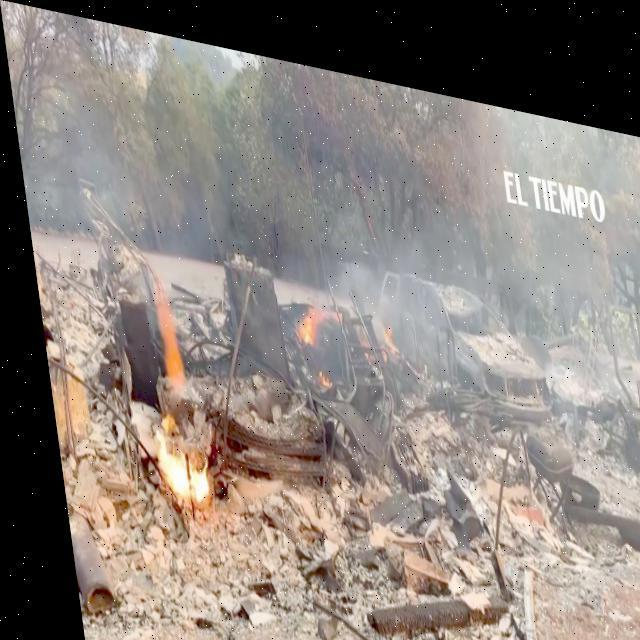Fire: (140, 262, 180, 386), (143, 417, 201, 496), (287, 290, 320, 332), (375, 308, 392, 338), (308, 354, 324, 378)
